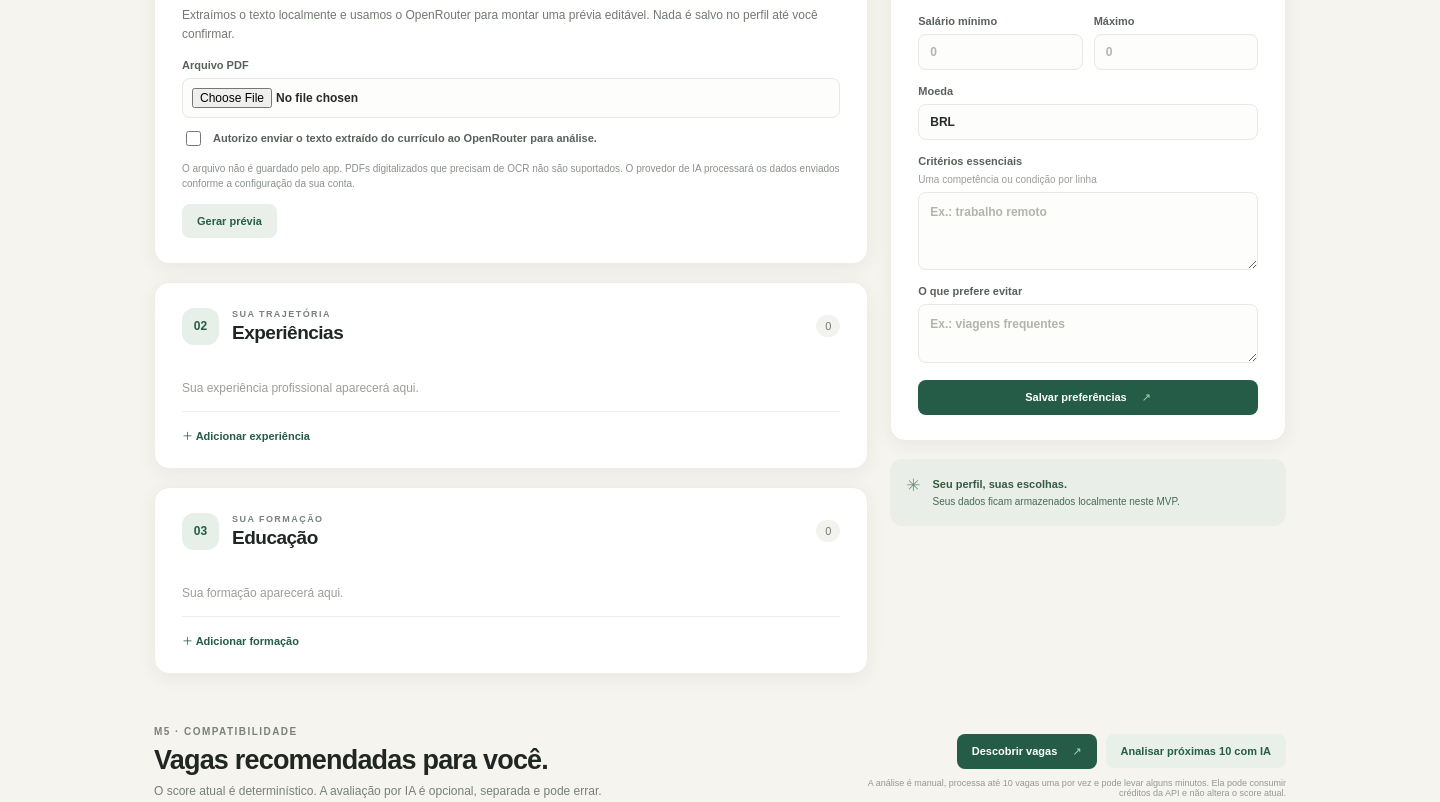
it: perfil profissional › mostra erro de salvamento junto às preferências e libera o botão
This screenshot has width=1440, height=802.
(page scrolled)
Click the button "Salvar preferências ↗" at (1088, 398), box [918, 380, 1258, 415]
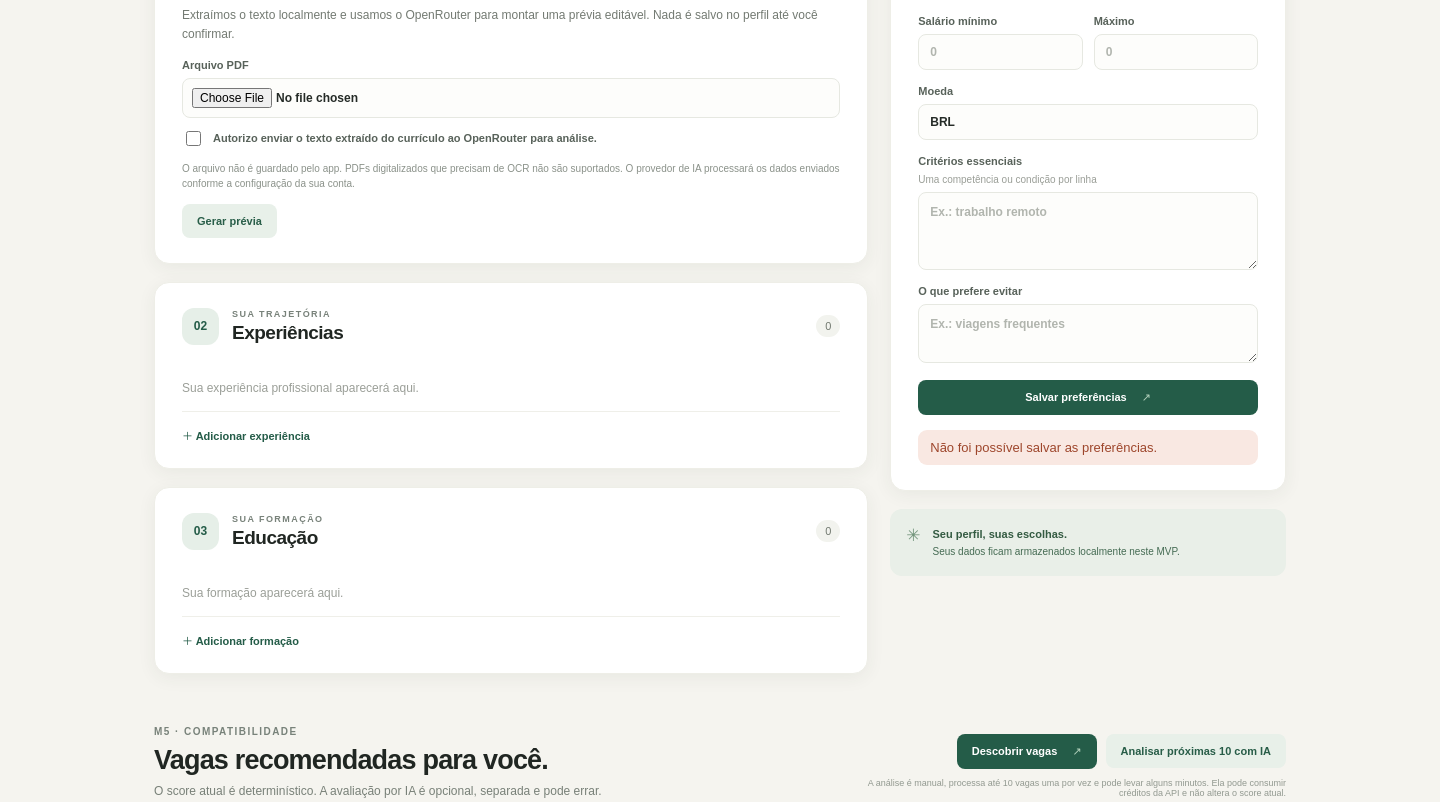
Result: the message reads "Não foi possível salvar as preferências." at [930, 440, 1157, 455]
